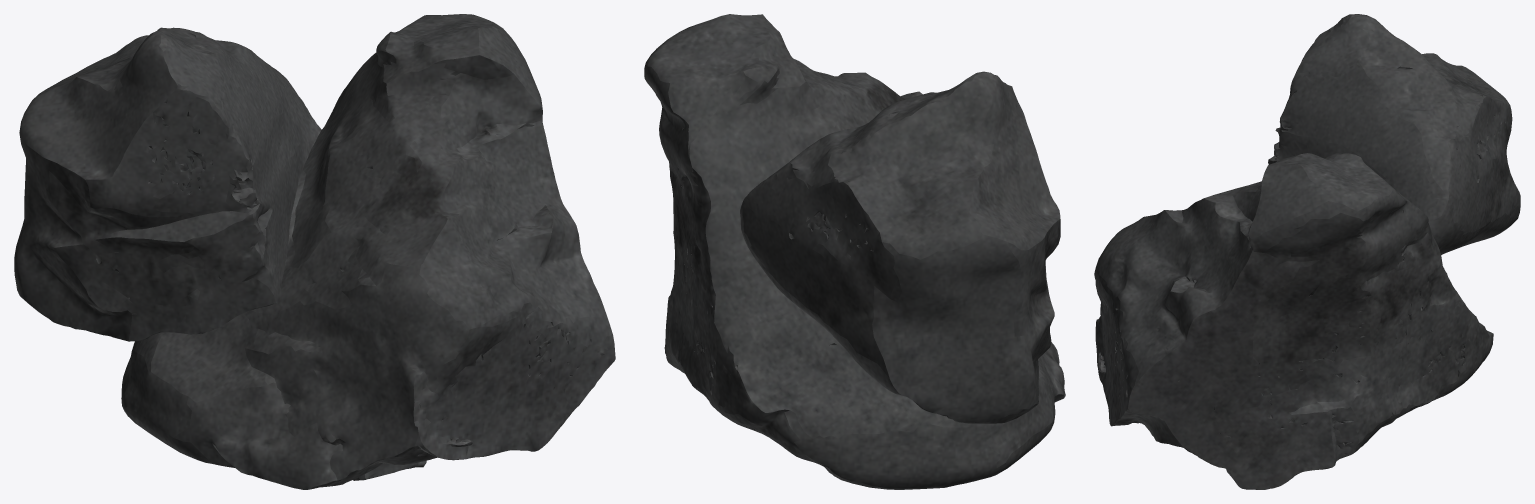
3 views of the same model, side by side, from view 1: azimuth 30°, elevation 25°; view 2: azimuth 150°, elevation 25°; view 3: azimuth 270°, elevation 25° (orthographic). The views are drawn at different scales.
Parts seen in each view (by area): view 1: world; view 2: world; view 3: world.
Boxes of the visible parts, <box> form: world: <box>14,14,615,489</box>; world: <box>644,14,1065,489</box>; world: <box>1094,14,1520,489</box>.
Size of the model in its own units: 0.12 by 0.1072 by 0.1202.
1 material, 1 textured.
